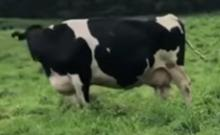cow: (11, 14, 188, 107)
